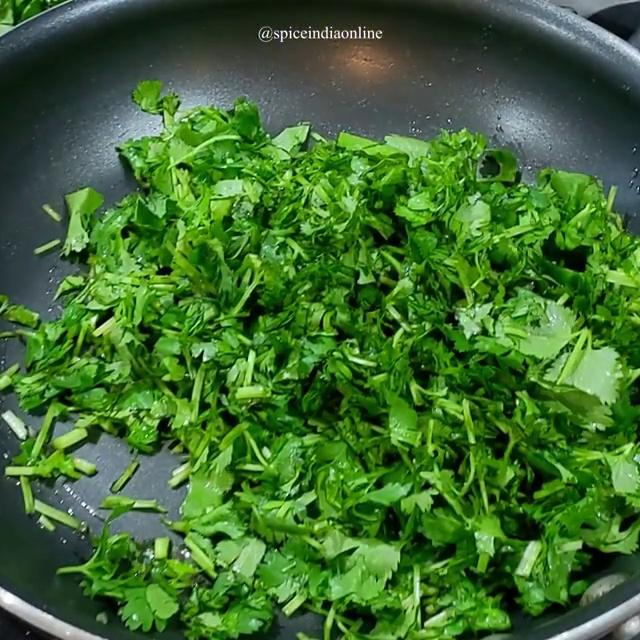cilantro: (112, 133, 623, 578)
